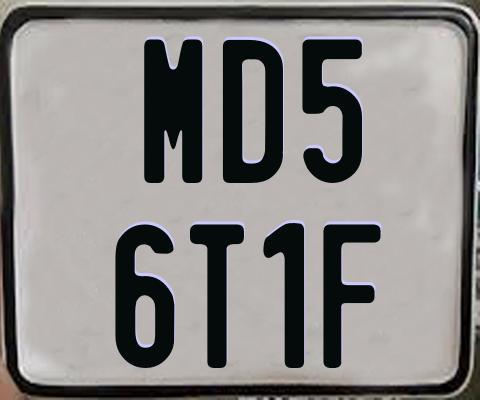1: (261, 223, 302, 374)
5: (301, 39, 364, 186)
6: (112, 221, 175, 368)
D: (222, 37, 287, 183)
F: (323, 224, 385, 368)
M: (143, 37, 203, 184)
T: (189, 221, 247, 371)
